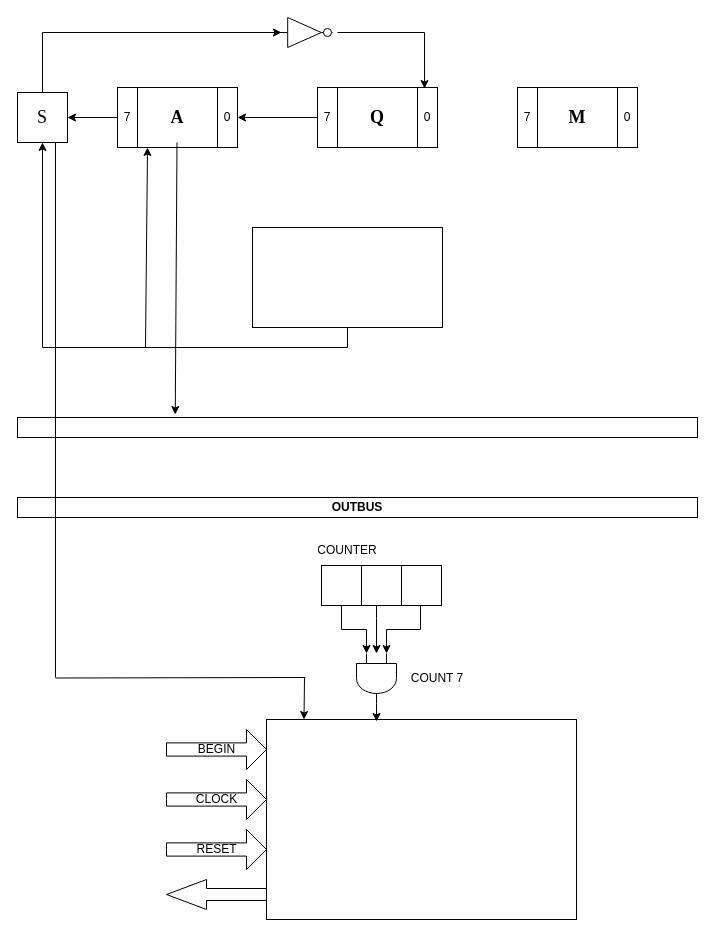
This 715x937 diagram has some shape labels left out. Each missing label, with the centre of its shape:
9 BIT PARALLEL ADDER: (347,277)
CONTROL UNIT: (421,819)
END: (216,894)
INBUS: (357,427)
